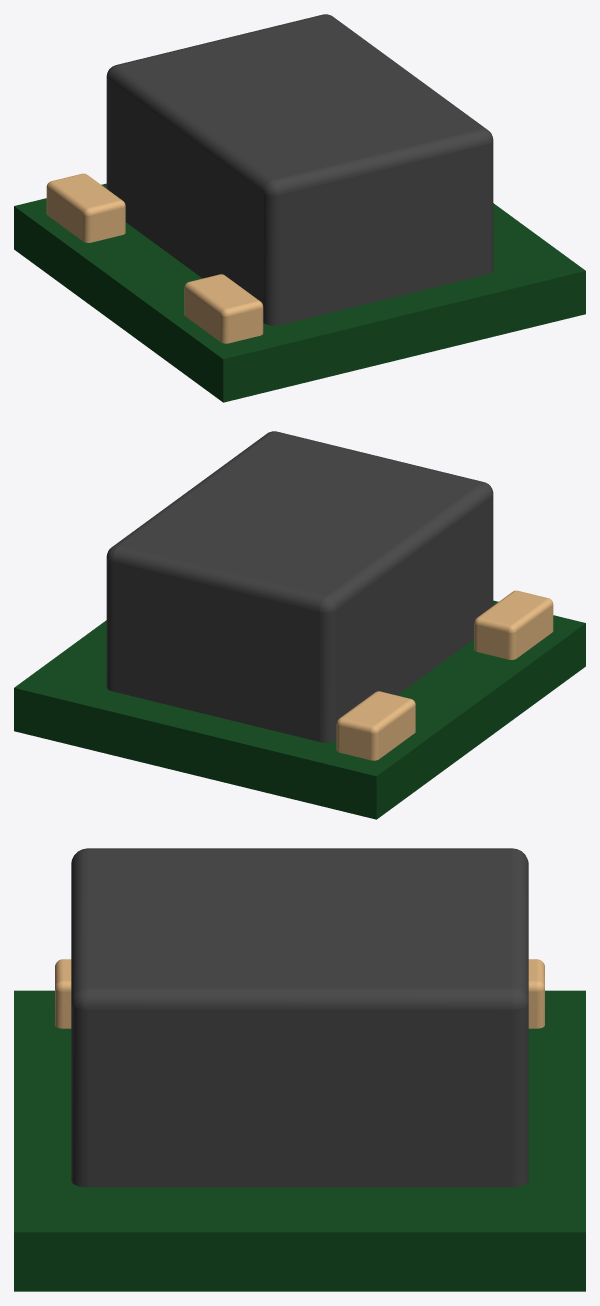
The model's file is kc-converter_dcdc_cyntec_mun12ad0x-sh.glb.
3 renders of one model, top to bottom at view 1: azimuth 30°, elevation 25°; view 2: azimuth 150°, elevation 25°; view 3: azimuth 270°, elevation 25°, orthographic. The views are drawn at different scales.
Visible parts, largest first — view 1: 0.08333333333333333_0.08333333333333333_0.08333333333333333_, 0_0.08333333333333333_0_0, 0.75_0.5_0.16666666666666666_0.9; view 2: 0.08333333333333333_0.08333333333333333_0.08333333333333333_, 0_0.08333333333333333_0_0, 0.75_0.5_0.16666666666666666_0.9; view 3: 0.08333333333333333_0.08333333333333333_0.08333333333333333_, 0_0.08333333333333333_0_0, 0.75_0.5_0.16666666666666666_0.9.
Boxes of the visible parts, x1,y1,x2,y2 form: 0.08333333333333333_0.08333333333333333_0.08333333333333333_: (106,14,493,325); 0_0.08333333333333333_0_0: (14,183,585,402); 0.75_0.5_0.16666666666666666_0.9: (46,173,263,343); 0.08333333333333333_0.08333333333333333_0.08333333333333333_: (106,431,493,742); 0_0.08333333333333333_0_0: (14,600,585,819); 0.75_0.5_0.16666666666666666_0.9: (336,590,553,760); 0.08333333333333333_0.08333333333333333_0.08333333333333333_: (71,848,528,1187); 0_0.08333333333333333_0_0: (14,990,585,1291); 0.75_0.5_0.16666666666666666_0.9: (55,959,544,1028).
Bounding box in the file's own units: 0.35 × 0.17 × 0.35.
